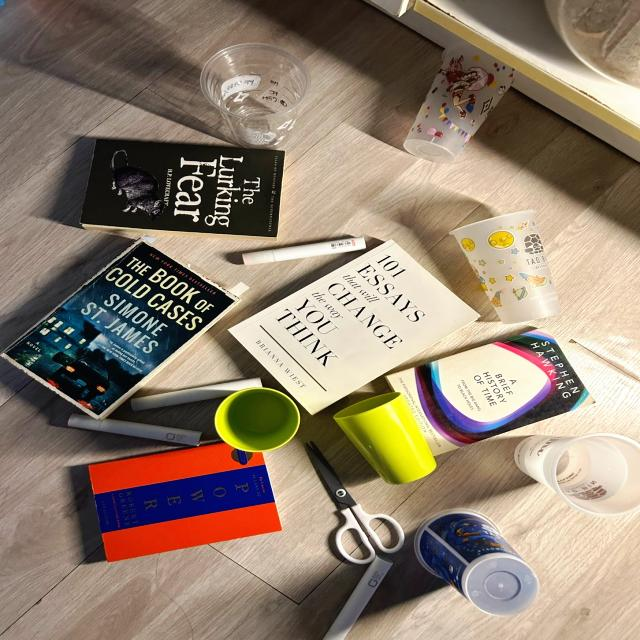Book: (3, 238, 248, 419), (230, 241, 479, 414), (385, 326, 598, 456), (87, 443, 282, 563), (80, 139, 284, 240)
HighLight Pen: (323, 556, 392, 640), (131, 378, 262, 411), (69, 414, 202, 446), (243, 237, 366, 265)
Plastic Cup: (404, 46, 514, 163), (415, 511, 538, 614), (451, 211, 559, 323), (201, 43, 310, 149), (515, 433, 639, 517)
Scissors: (306, 442, 404, 564)
WaterGlass: (334, 393, 436, 484), (215, 387, 300, 452)
